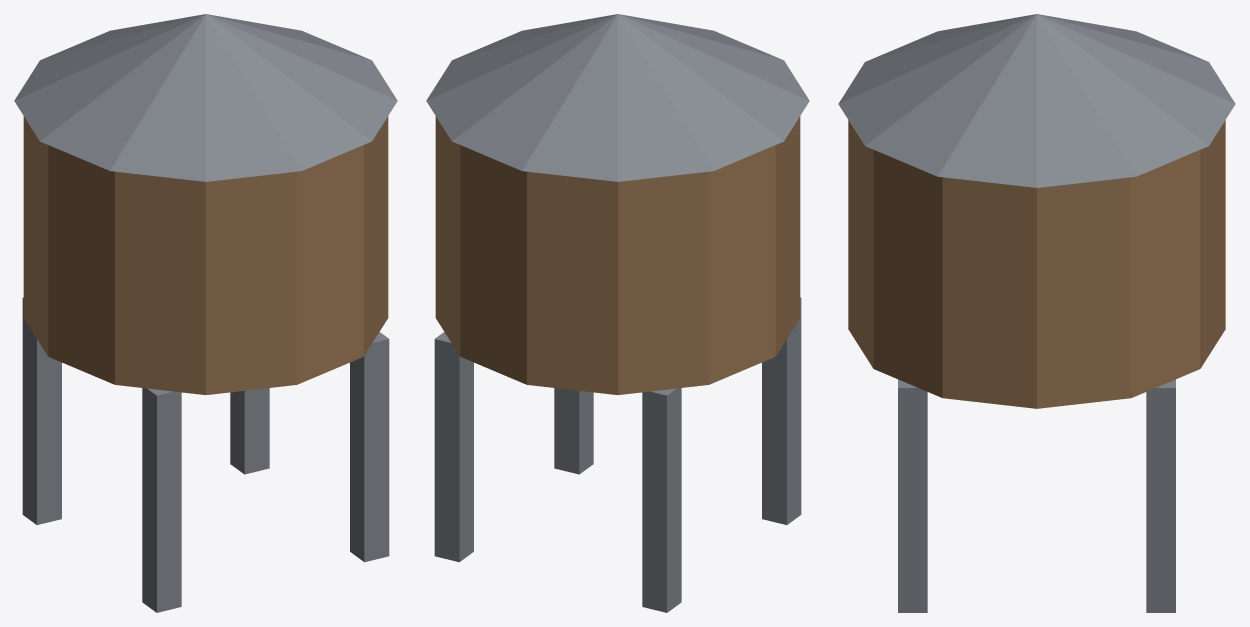
The model's file is water_tank.glb.
3 renders of one model, left to right at view 1: azimuth 30°, elevation 25°; view 2: azimuth 150°, elevation 25°; view 3: azimuth 270°, elevation 25°, orthographic. The views are drawn at different scales.
Visible parts, largest first — view 1: water_tank_mesh; view 2: water_tank_mesh; view 3: water_tank_mesh.
Part boxes in pixels (<box>): water_tank_mesh: <box>14,14,397,612</box>; water_tank_mesh: <box>426,14,809,612</box>; water_tank_mesh: <box>838,14,1235,612</box>.
Bounding box in the file's own units: 0.08 × 0.12 × 0.08.
